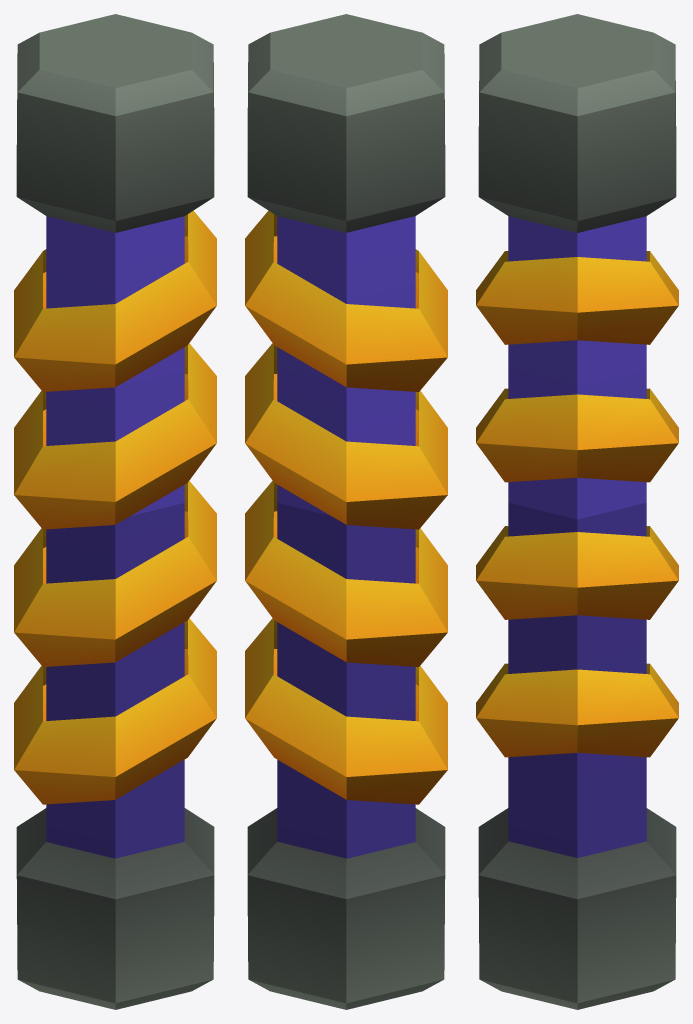
File: short-handle_012.fbx
The picture shows the model from 3 angles, left to right: view 1: azimuth 30°, elevation 25°; view 2: azimuth 150°, elevation 25°; view 3: azimuth 270°, elevation 25°; orthographic projection.
Visible parts, largest first — view 1: short-handle.012; view 2: short-handle.012; view 3: short-handle.012.
Boxes of the visible parts, bbox=[...] form: short-handle.012: bbox=[14, 14, 216, 1009]; short-handle.012: bbox=[245, 14, 447, 1009]; short-handle.012: bbox=[476, 14, 678, 1009].
Bounding box in the file's own units: 8.92 × 38.72 × 7.73.
